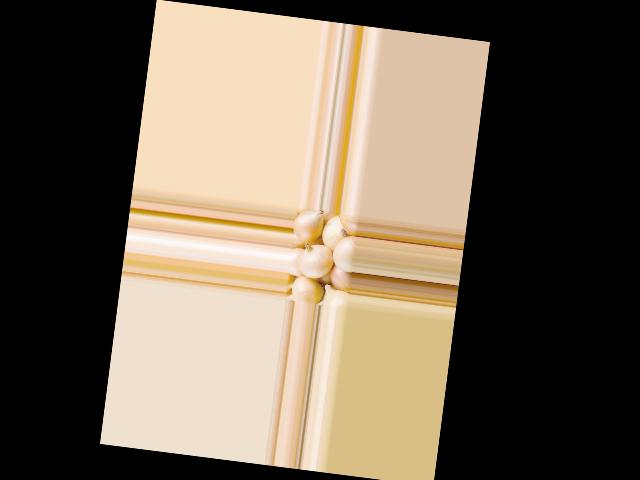onion: (288, 245, 307, 277)
